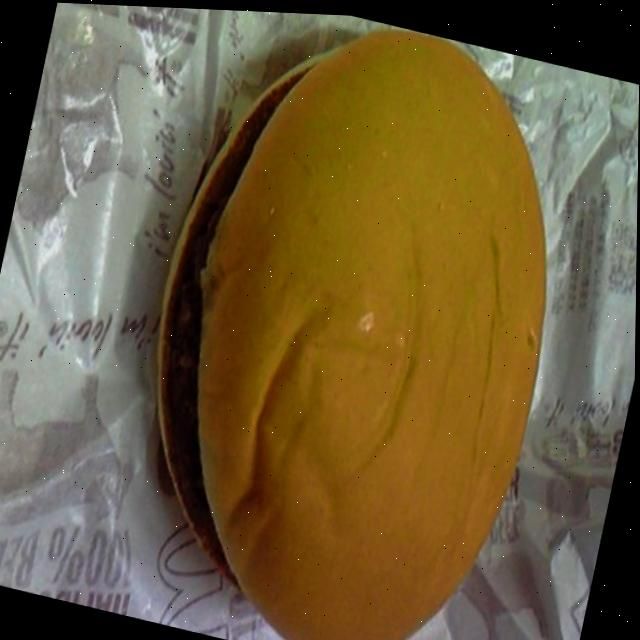汉堡快餐: (88, 3, 599, 640)
